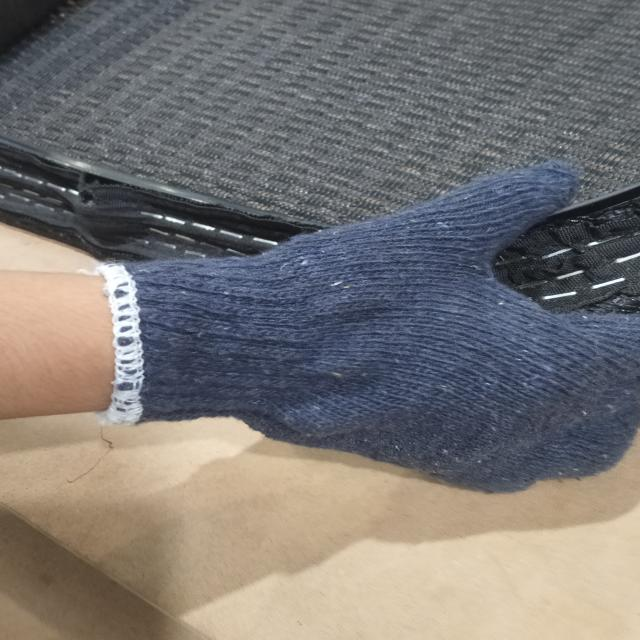Gloves-Detection: (96, 164, 631, 501)
